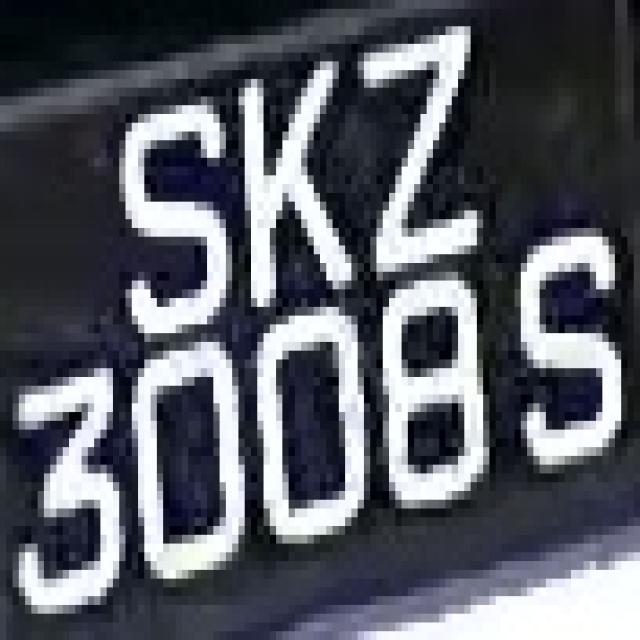0: (100, 324, 264, 605), (245, 263, 364, 552)
3: (0, 368, 138, 622)
8: (352, 236, 484, 544)
K: (200, 35, 358, 333)
S: (514, 219, 628, 491), (94, 97, 213, 350)
Z: (339, 27, 483, 280)
